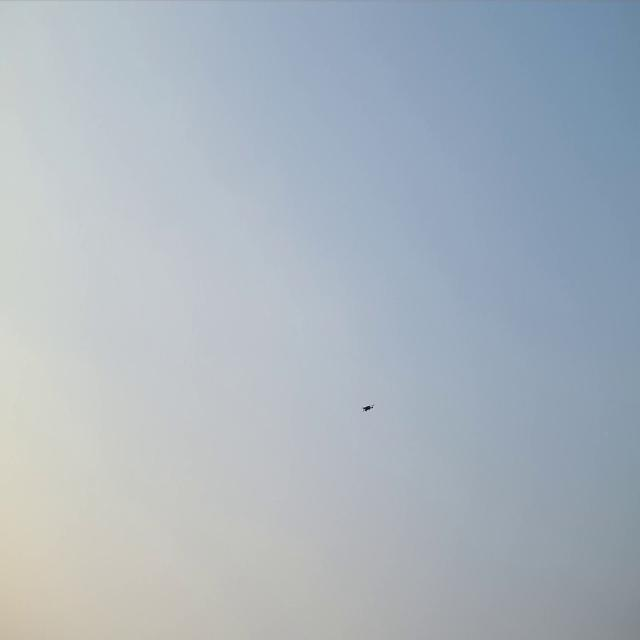UAV: (360, 402, 376, 414)
